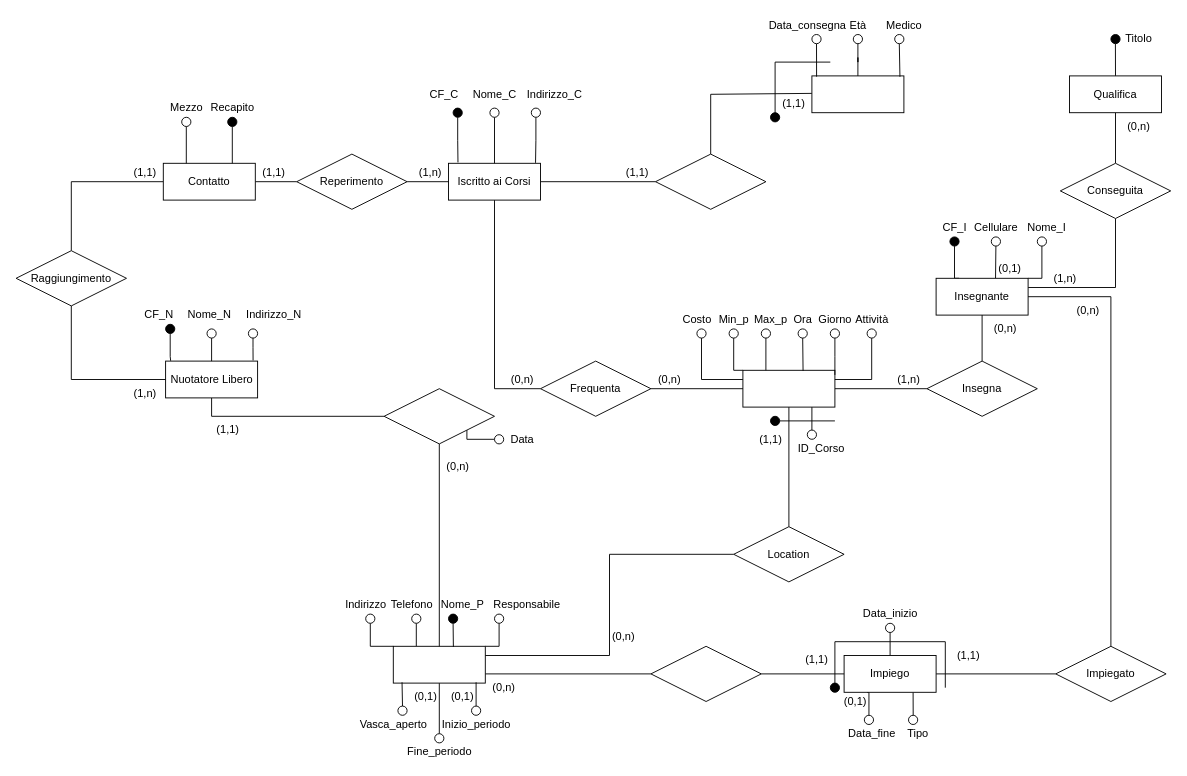
The diagram is 1187 pixels wide and 776 high, and some of its shapes have lost their labels. The centre of each missing label's shape, as x and y in pixels:
Certificato: the point at 857,94
Corso: the point at 788,388
Fornisce: the point at 710,181
Impiegante: the point at 705,673
Piscina: the point at 438,664
Ultima visita: the point at 438,416
